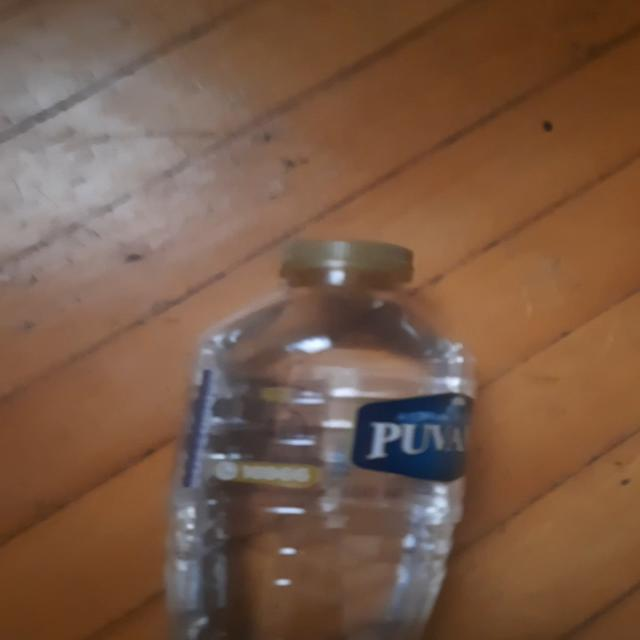Plastic: (162, 240, 478, 640)
